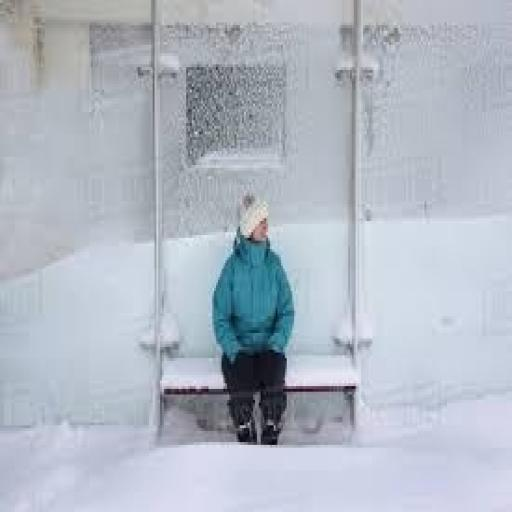sitting: (209, 187, 296, 445)
